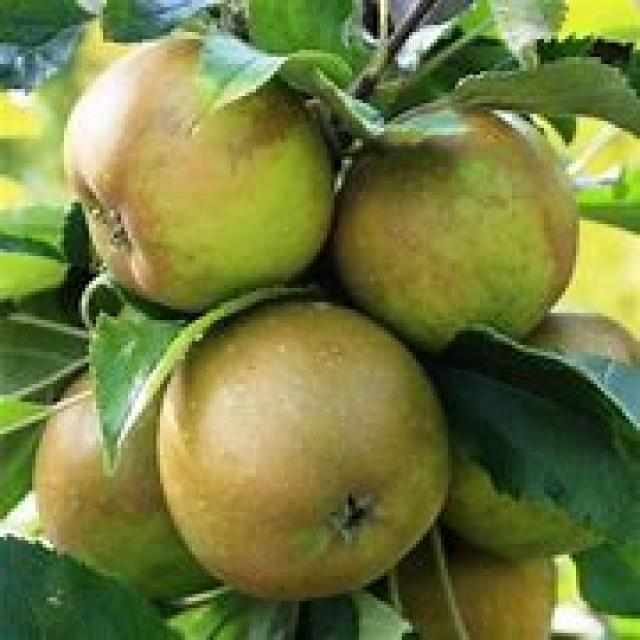apple: (157, 305, 453, 603), (60, 36, 339, 310), (341, 105, 580, 346)
